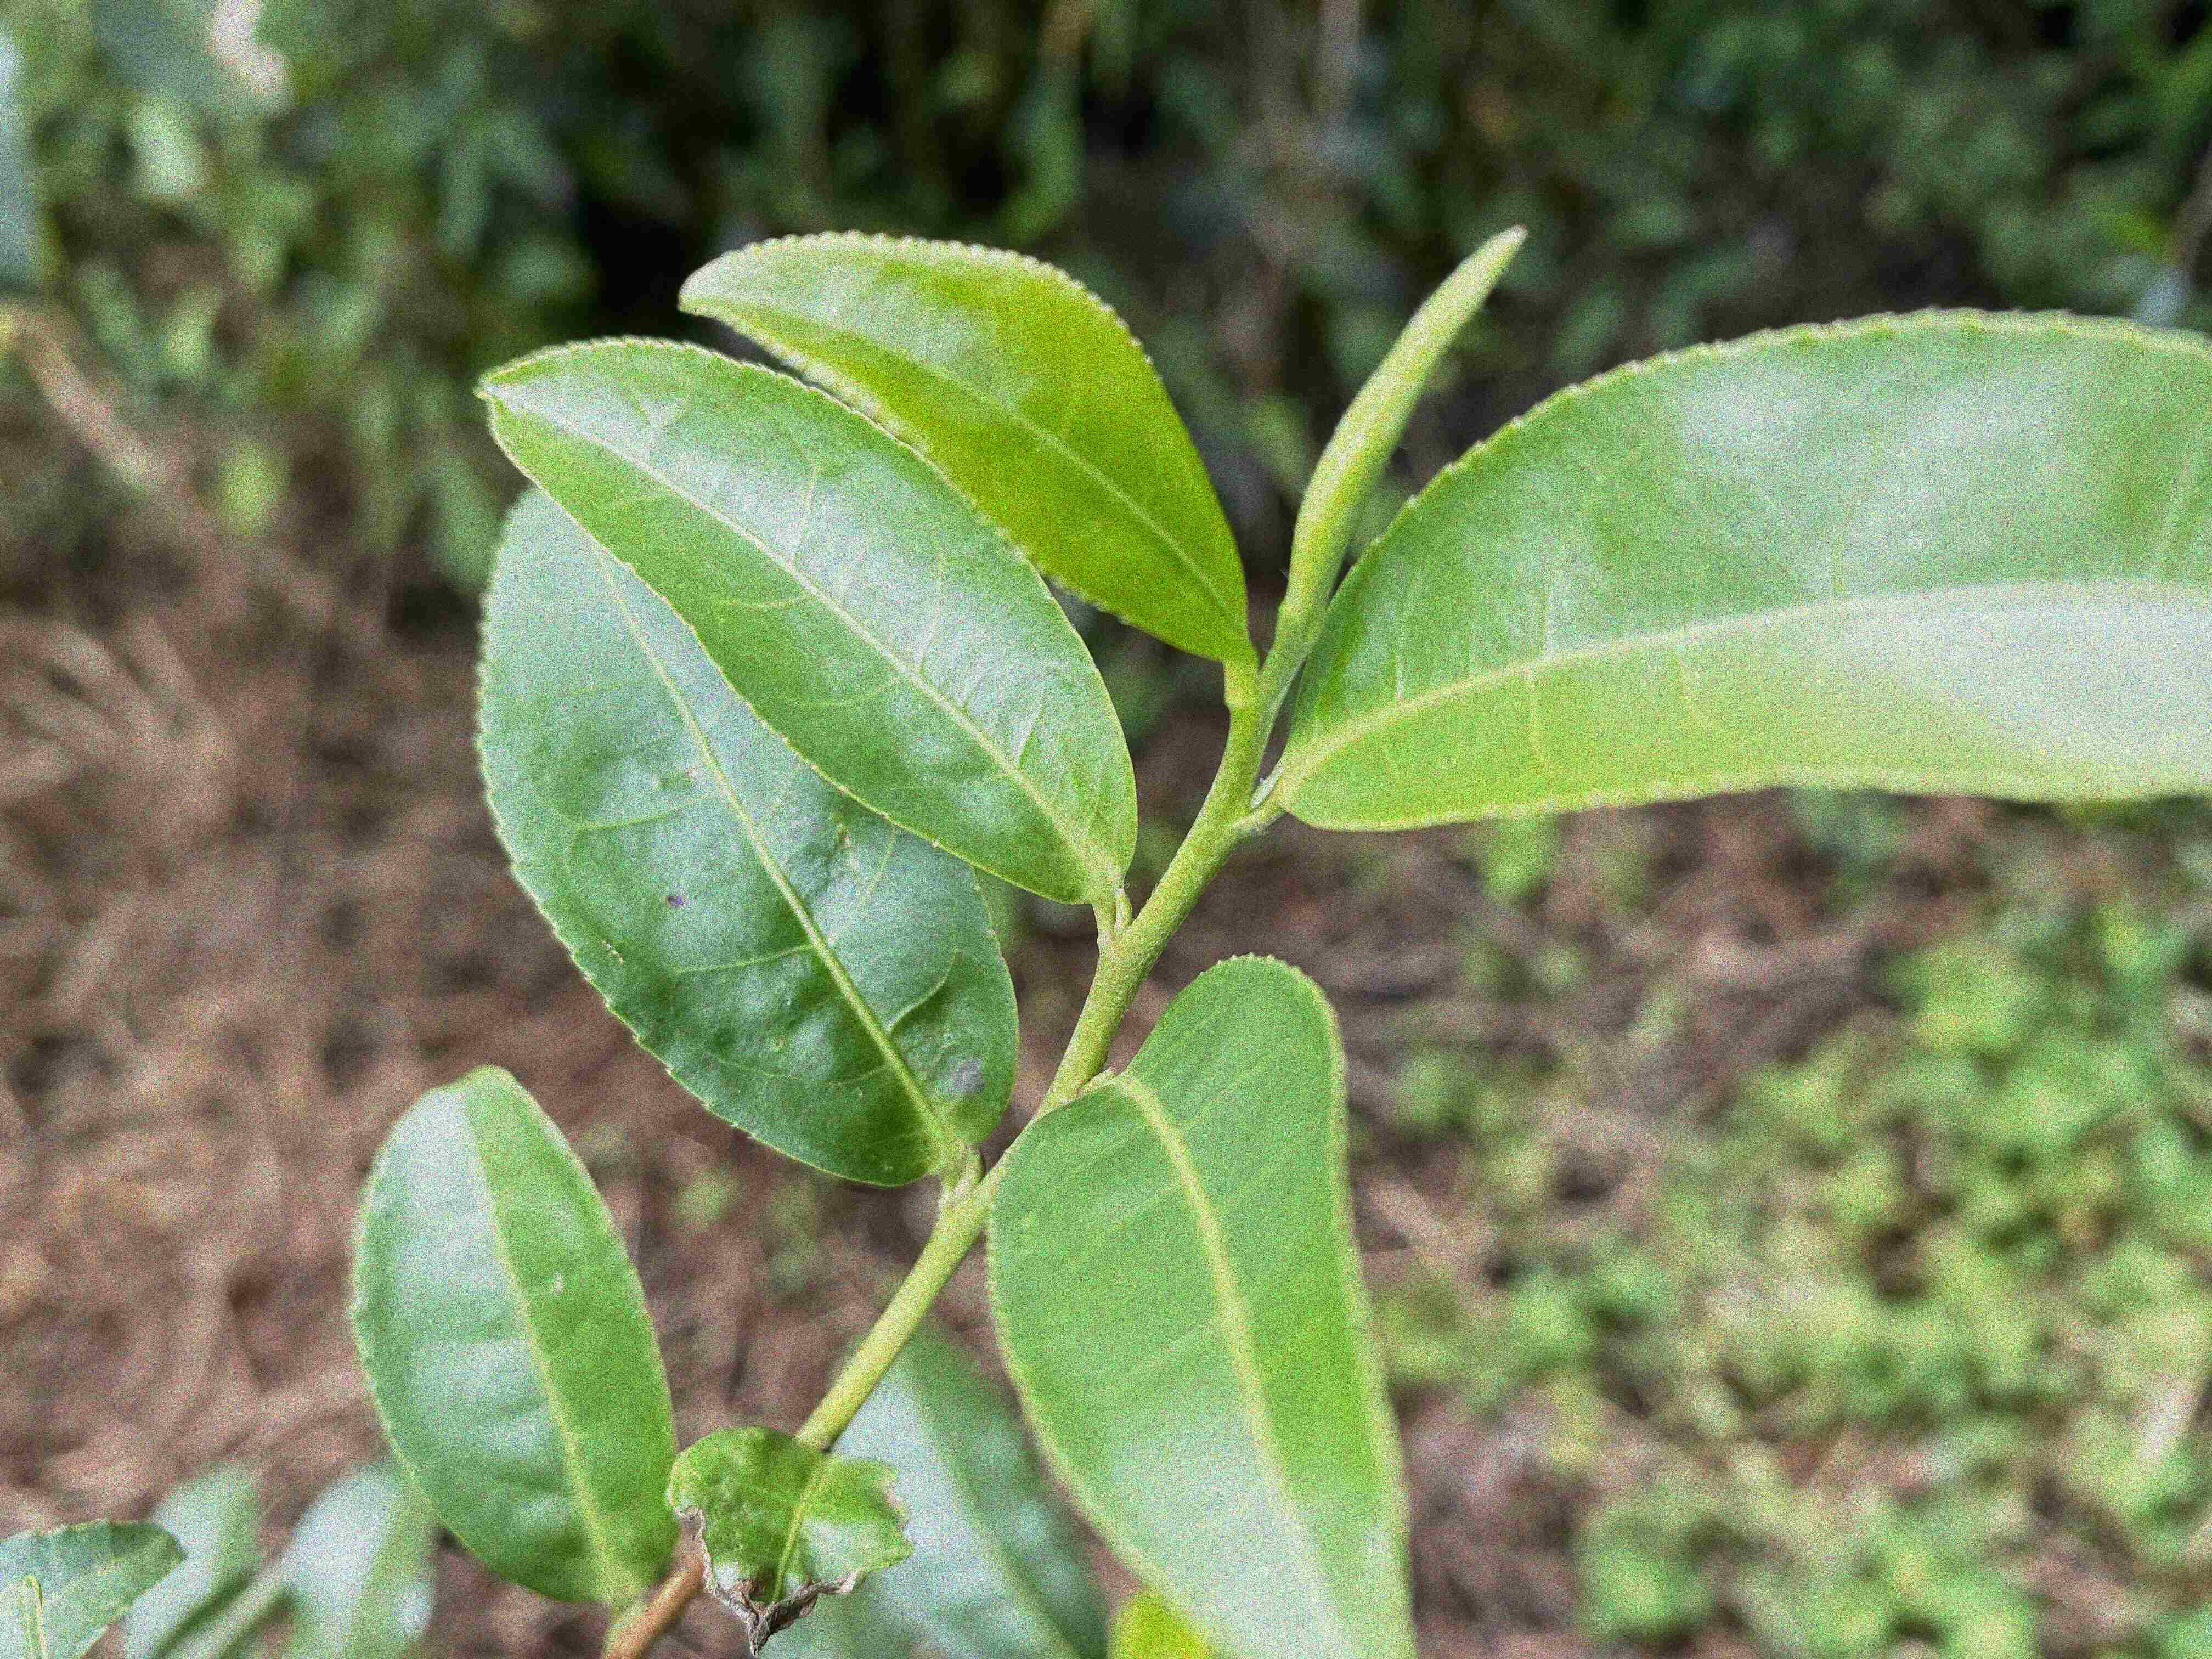chihuo_high: (665, 1425, 914, 1656)
healthy: (1275, 305, 2210, 830), (472, 333, 1141, 908), (979, 950, 1418, 1654), (676, 232, 1252, 655), (336, 1061, 685, 1615)
